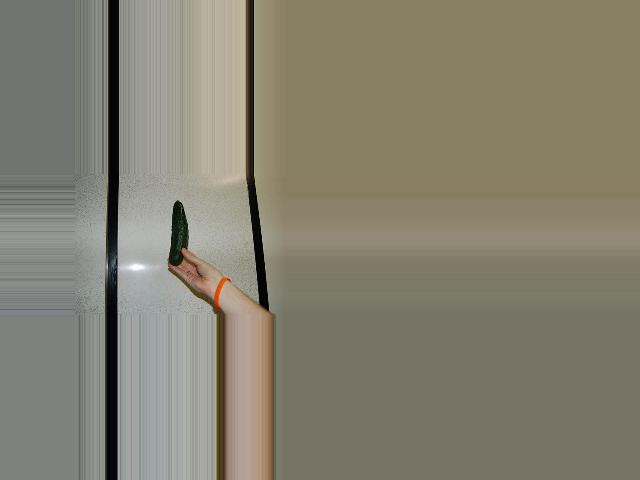cucumber: (168, 200, 187, 266)
